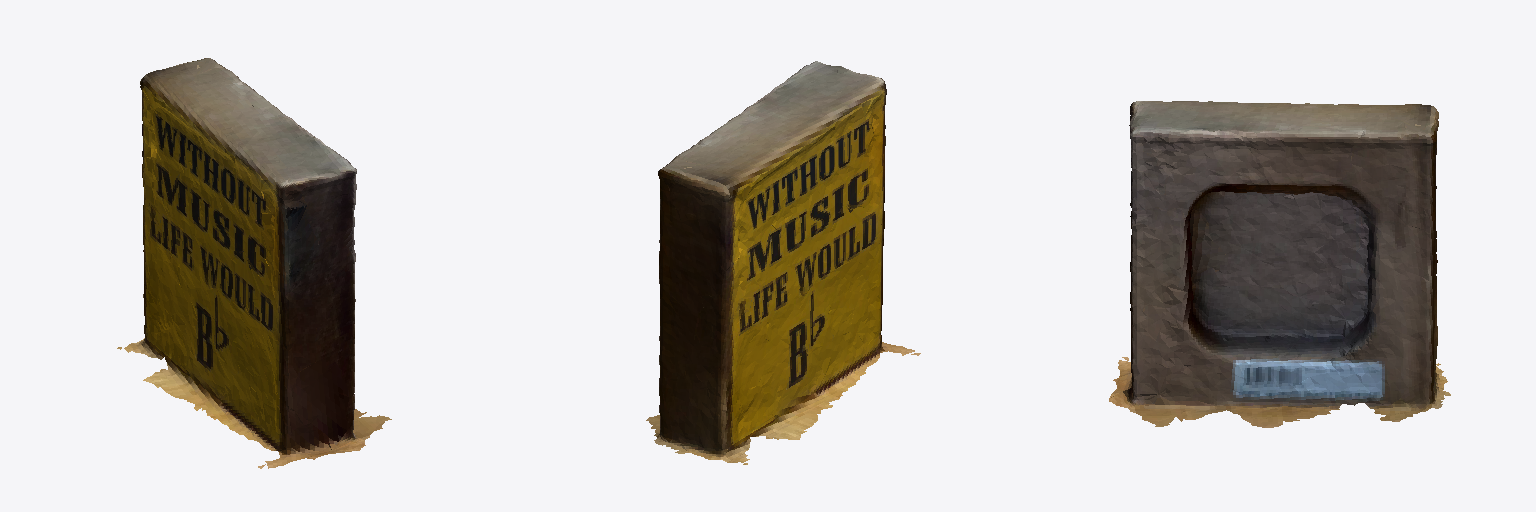
The picture shows the model from 3 angles: view 1: azimuth 30°, elevation 25°; view 2: azimuth 150°, elevation 25°; view 3: azimuth 270°, elevation 25°; orthographic projection.
Size of the model in its own units: 0.0797 by 0.14 by 0.1581.
Materials: 1 (1 with a texture image).